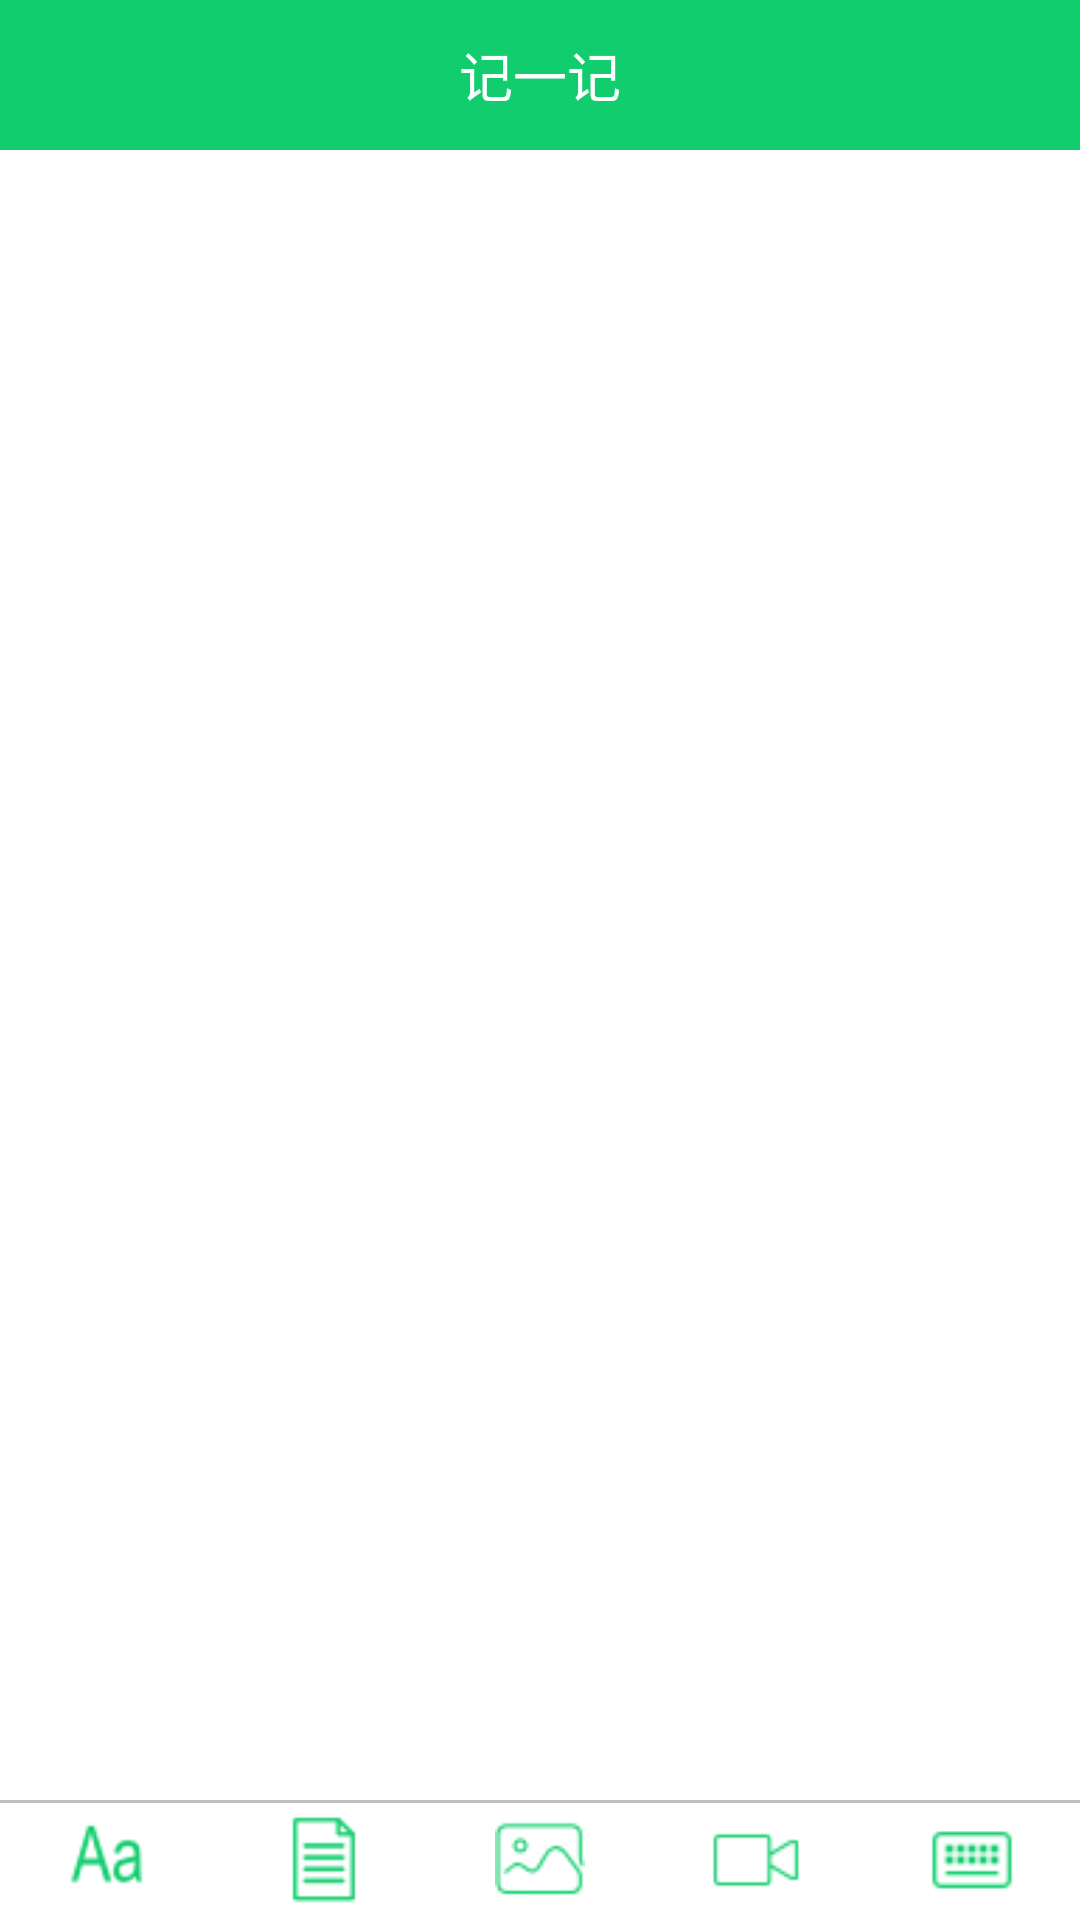

Point at icon controls on the screen. Image size 1080 × 1920, points as point (x, y).
iconfont jianpan: point (972, 1860)
iconfont video: point (756, 1860)
iconfont xiangce: point (540, 1858)
